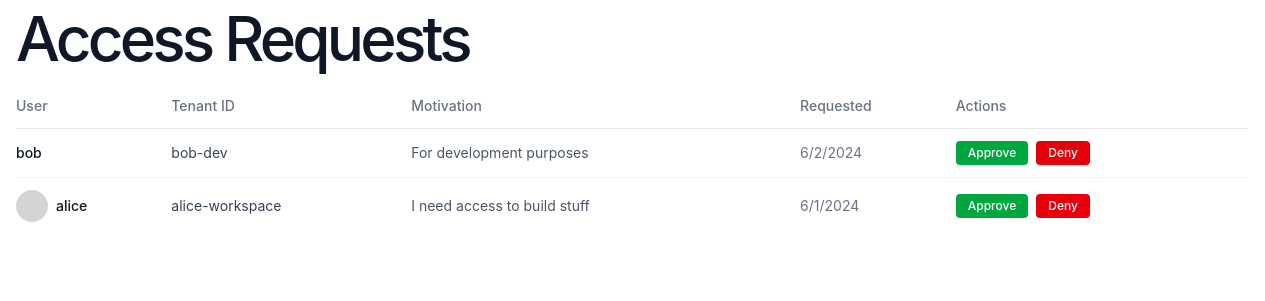
AccessRequests Page › permission errors (403) vs server faults › explains that only a platform admin can approve a new-org request
This screenshot has width=1265, height=301.
expect the text "bob" is shown: met, box [16,143,42,163]
Click the button "Approve" in the row of "bob-dev": [992, 153] box [956,141,1028,165]
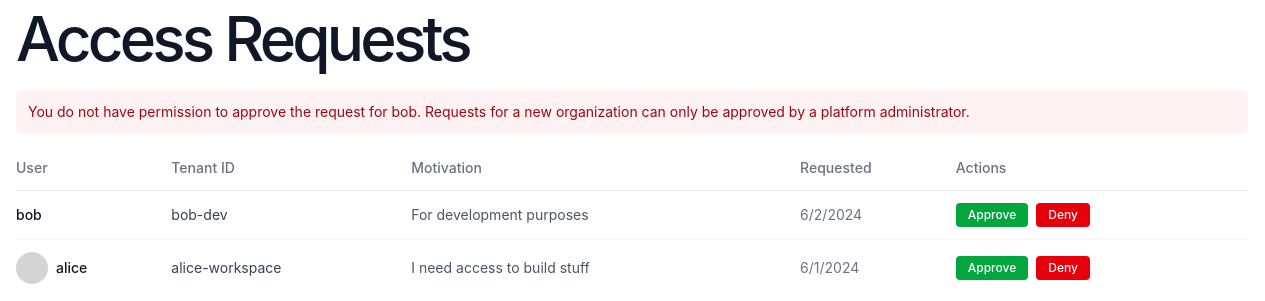
expect the message shows "platform administrator": met, box [28,103,970,120]
